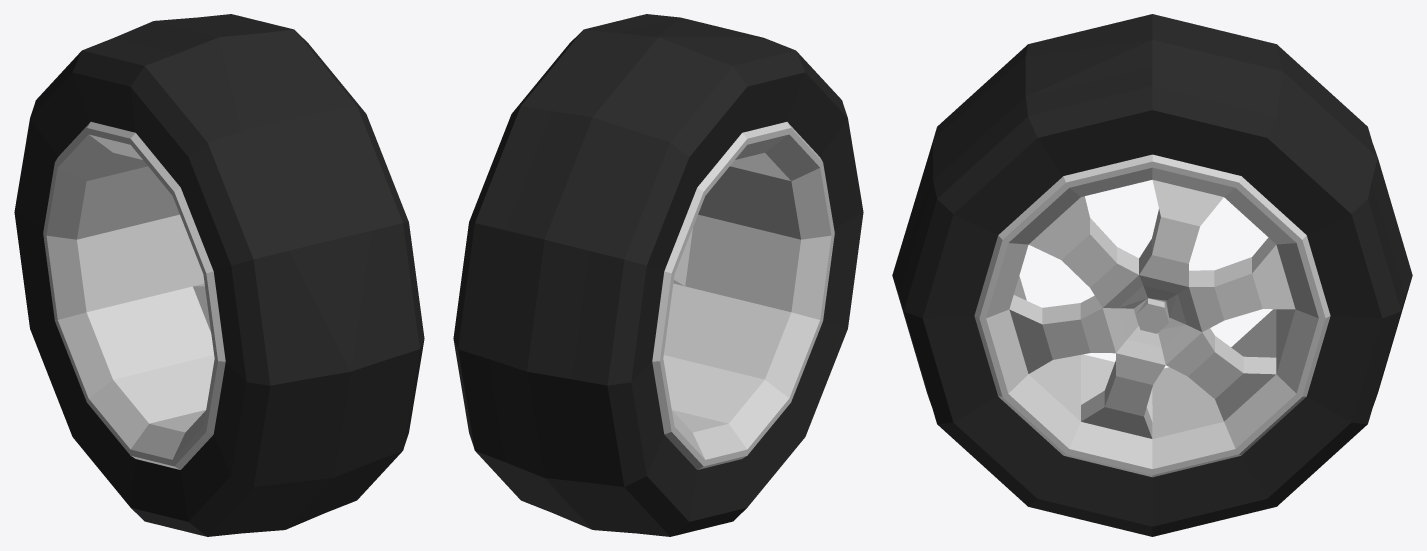
The model's file is llanta.glb.
3 views of the same model, side by side, from view 1: azimuth 30°, elevation 25°; view 2: azimuth 150°, elevation 25°; view 3: azimuth 270°, elevation 25° (orthographic).
Parts seen in each view (by area): view 1: Tire; view 2: Tire; view 3: Tire.
Part boxes in pixels (x1,y1,x2,y2): Tire: (14, 14, 424, 536); Tire: (453, 14, 863, 536); Tire: (892, 14, 1412, 536).
Size of the model in its own units: 7.3 by 18.34 by 18.34.
1 material, 1 textured.
